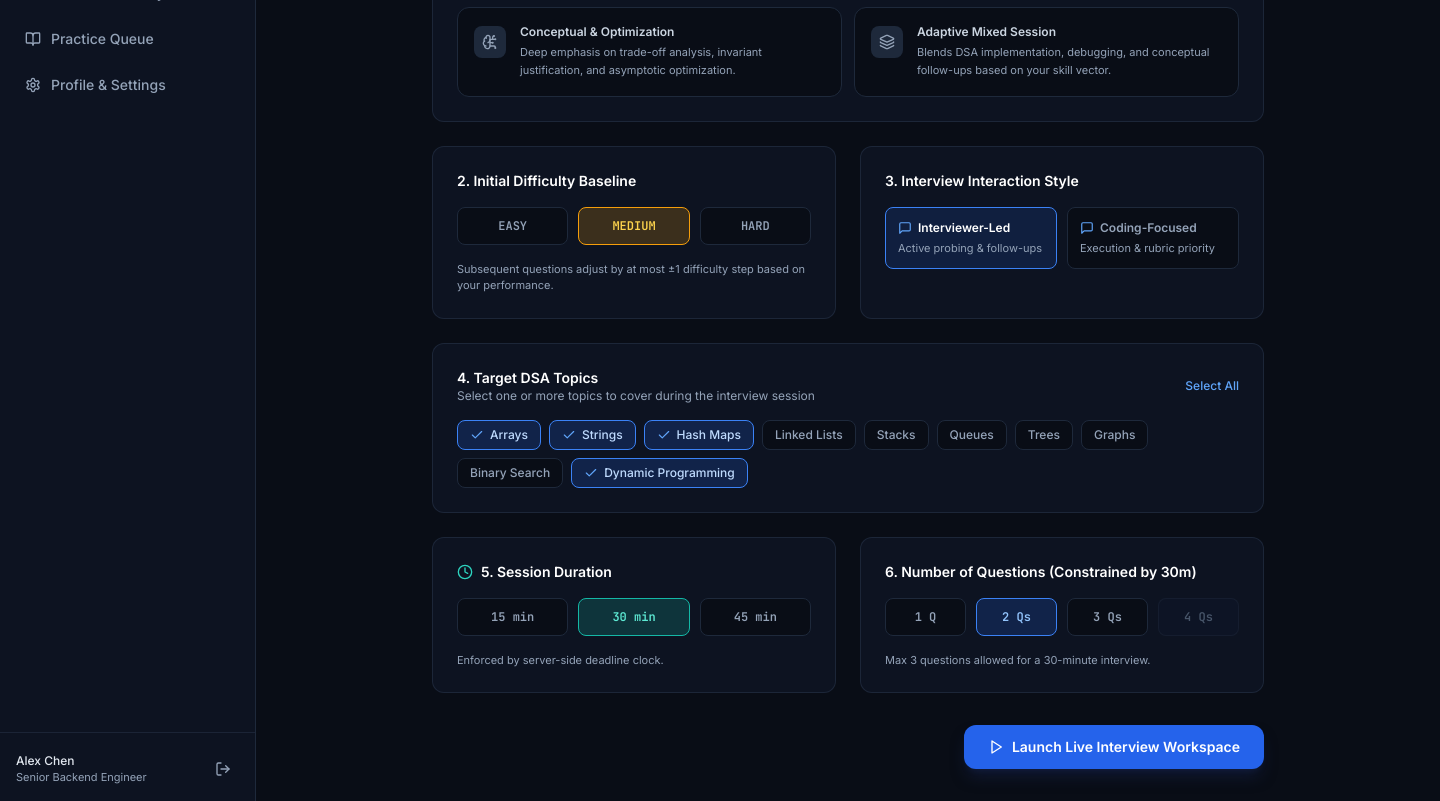
Test case: Adaptive Technical Interview Simulator — Frontend Suite › configures and launches an adaptive interview session into the live workspace
(page scrolled)
Click the button "Launch Live Interview Workspace" at (1114,747), box [964,725,1264,769]
(page scrolled)
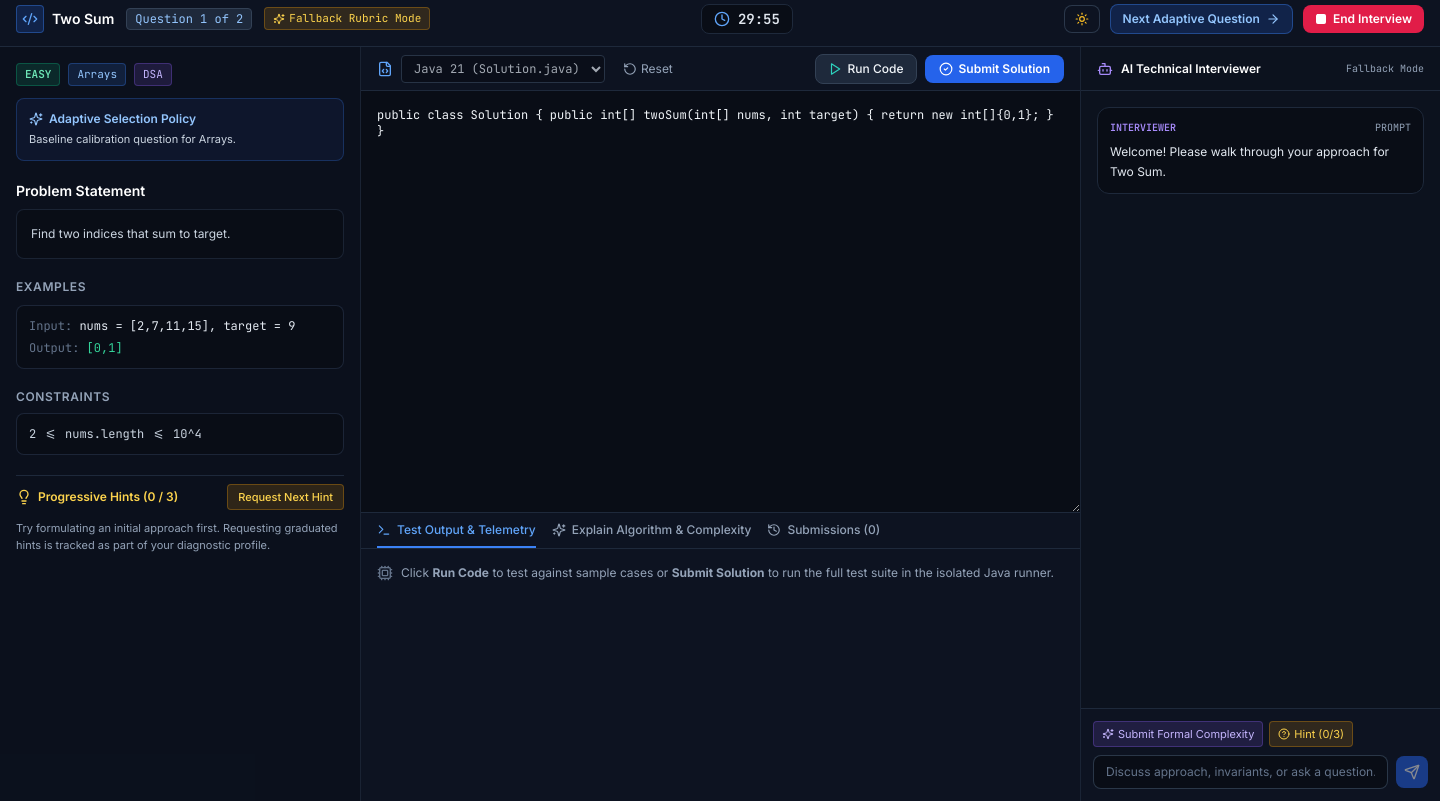
Result: the text "Two Sum" is shown at [52,8,114,28]
